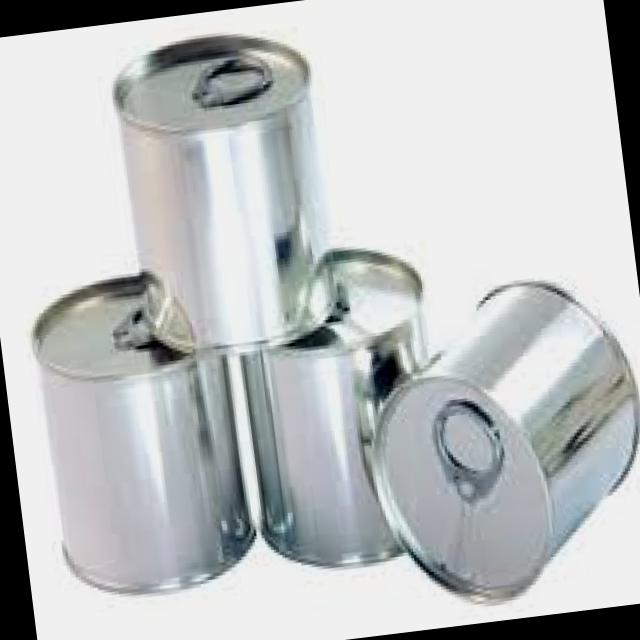metal: (371, 283, 639, 599), (33, 277, 252, 593), (114, 36, 330, 352), (243, 250, 427, 567)
